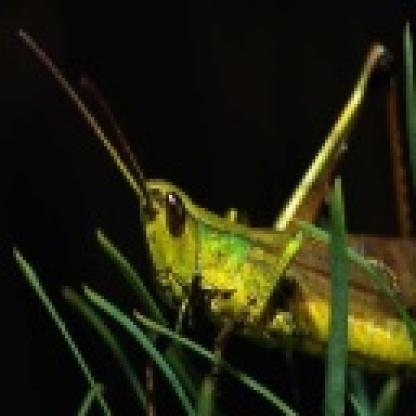grasshopper: (22, 37, 416, 375)
